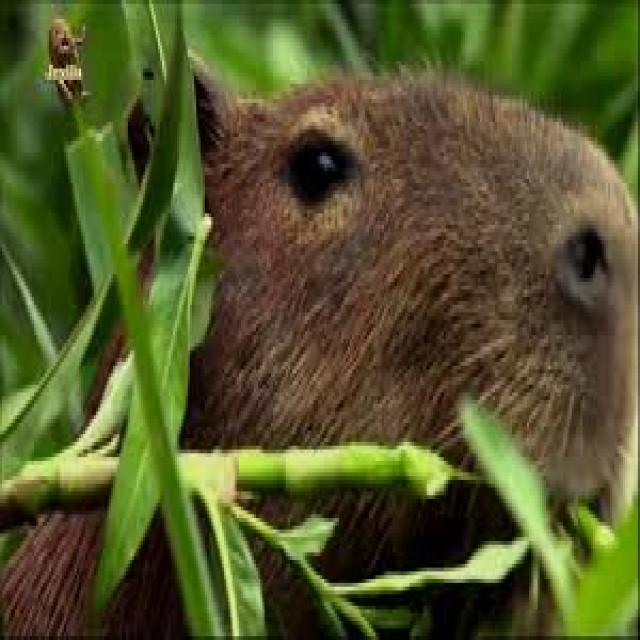capy: (90, 35, 640, 639)
